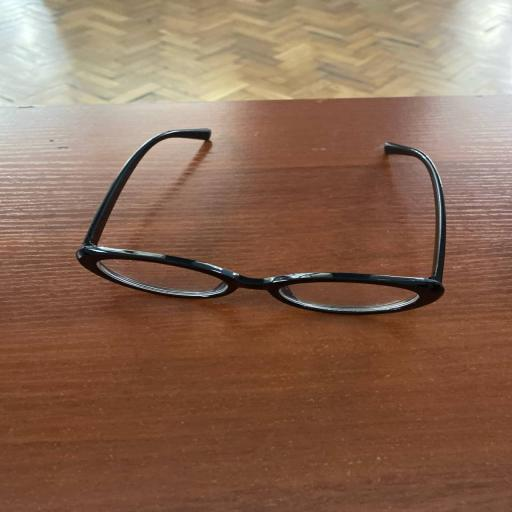phone: (0, 97, 512, 512)
